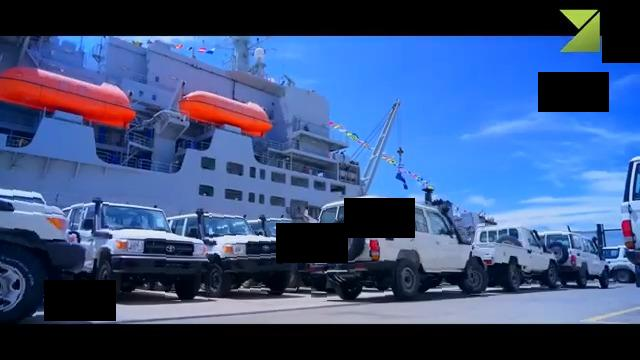MIL_HMMWV: (310, 192, 487, 300), (64, 202, 209, 300), (0, 179, 87, 316), (166, 210, 296, 299), (472, 224, 561, 290), (543, 231, 618, 288)
